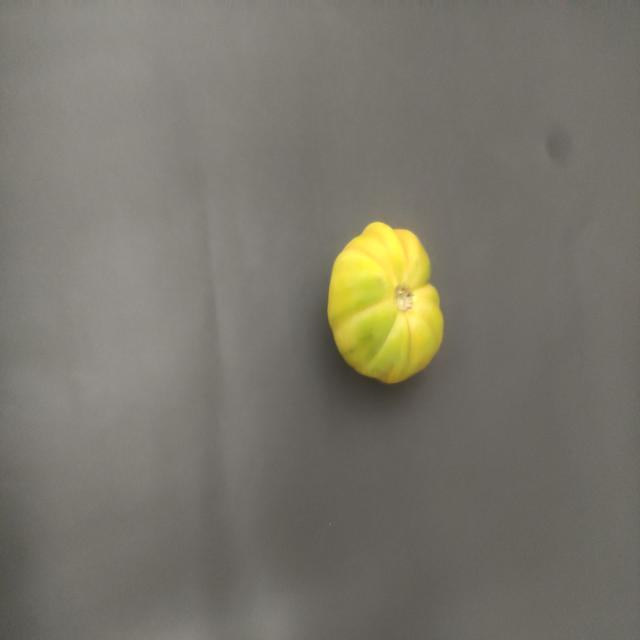yesil: (318, 206, 454, 392)
